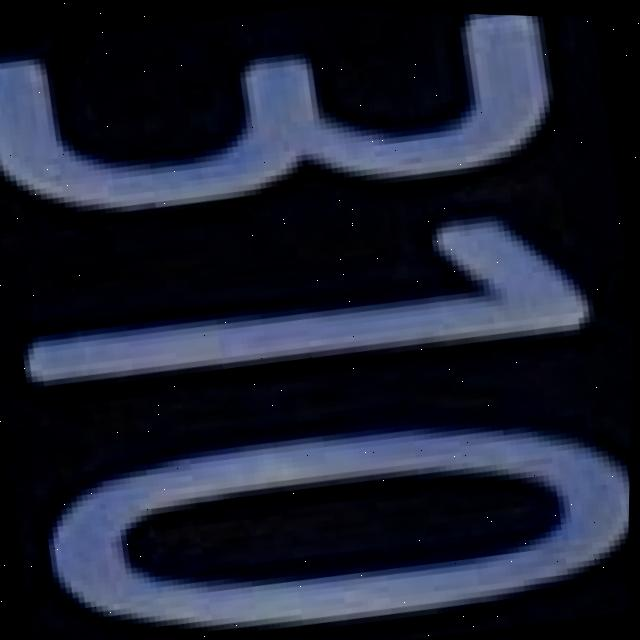character: (17, 368, 632, 640), (0, 179, 605, 426), (0, 0, 576, 259)
